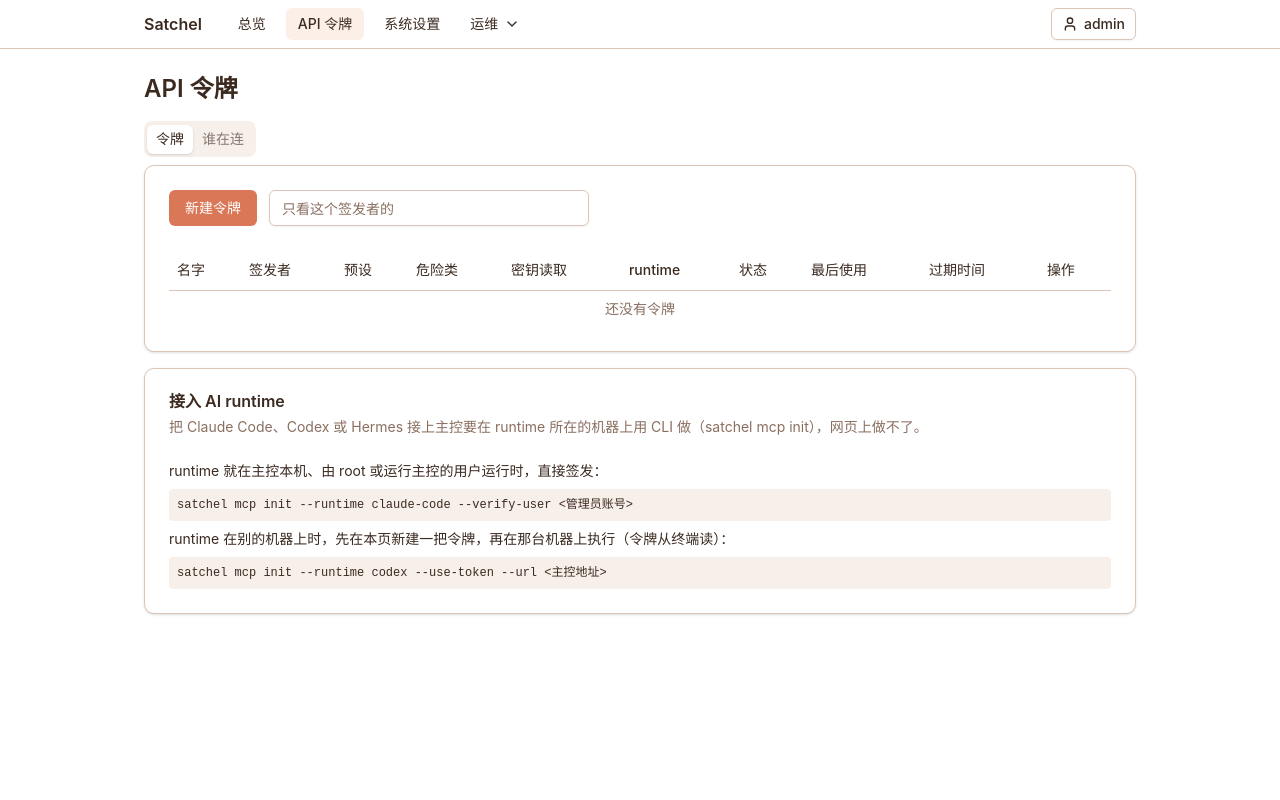
Test case: API 令牌页 › 新建令牌：当场验证后明文只显示这一次
The width and height of the screenshot is (1280, 800).
Click the button "新建令牌" at (213, 208), box x1=169 y1=190 x2=257 y2=226
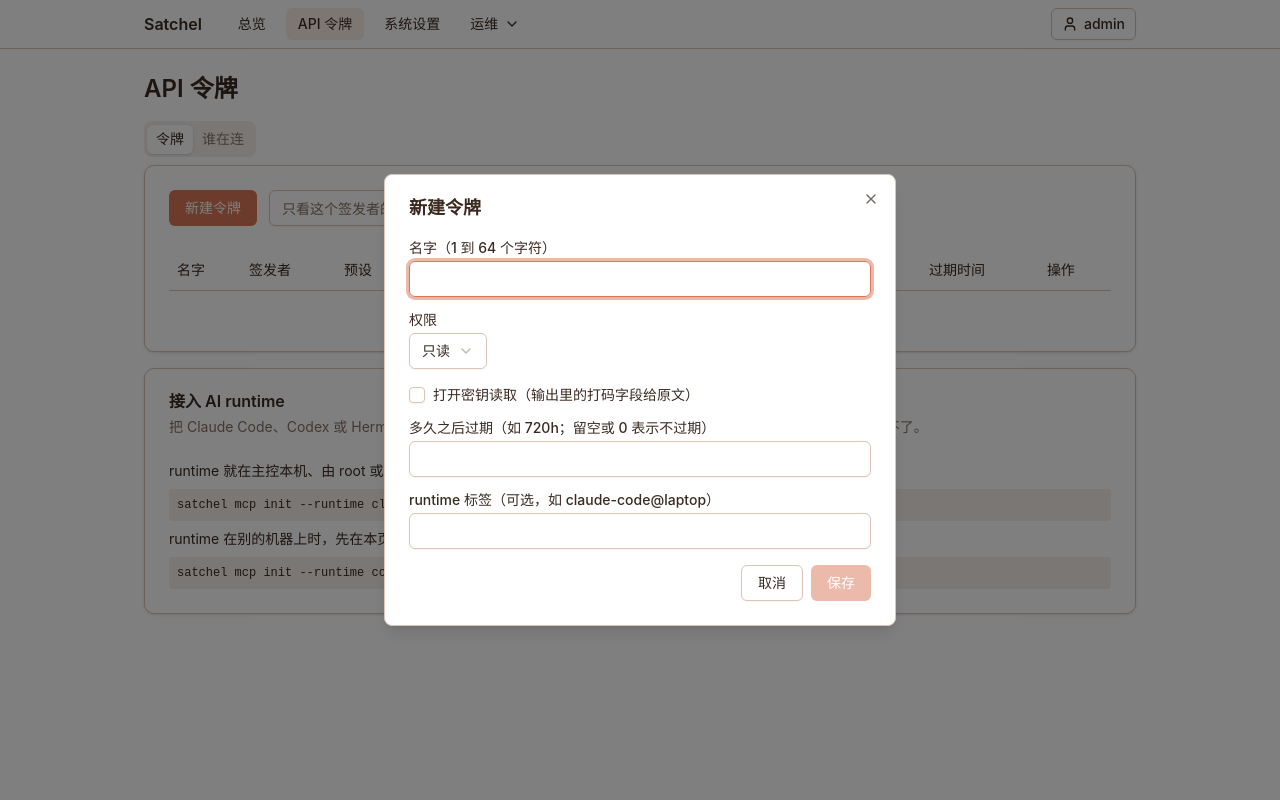
Type "ci" into the field labelled "名字（1 到 64 个字符）" at (640, 279), box x1=409 y1=261 x2=871 y2=297
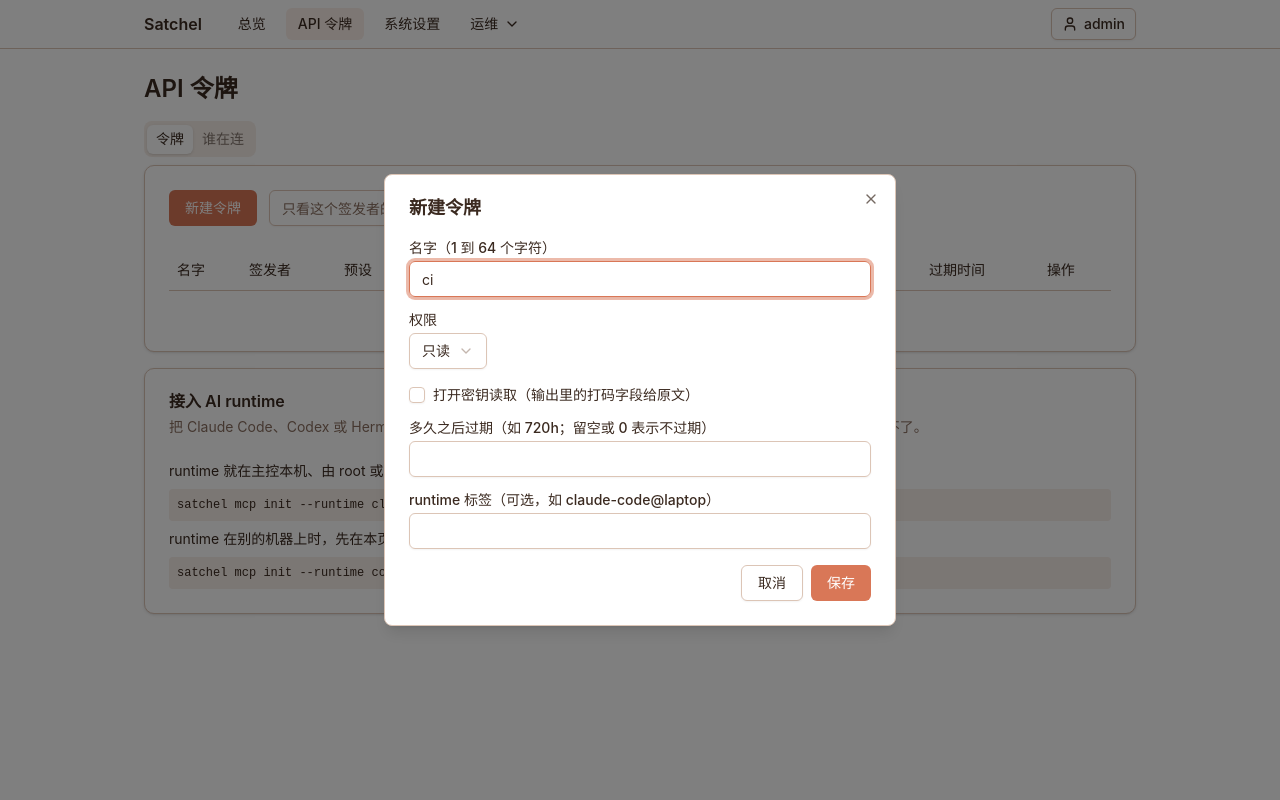
Click the button "保存" at (841, 583), box x1=811 y1=565 x2=871 y2=601
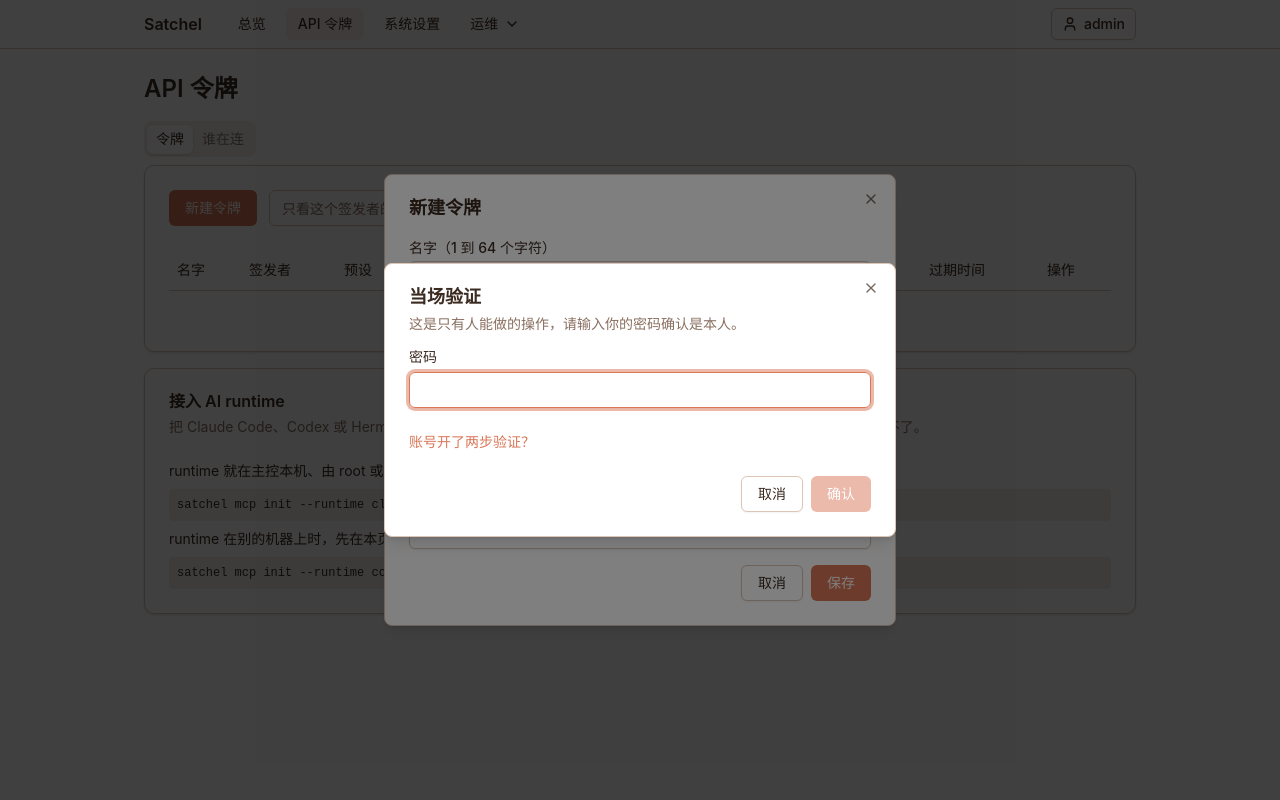
Type "secret12" into the password field labelled "密码" at (640, 390), box x1=409 y1=372 x2=871 y2=408
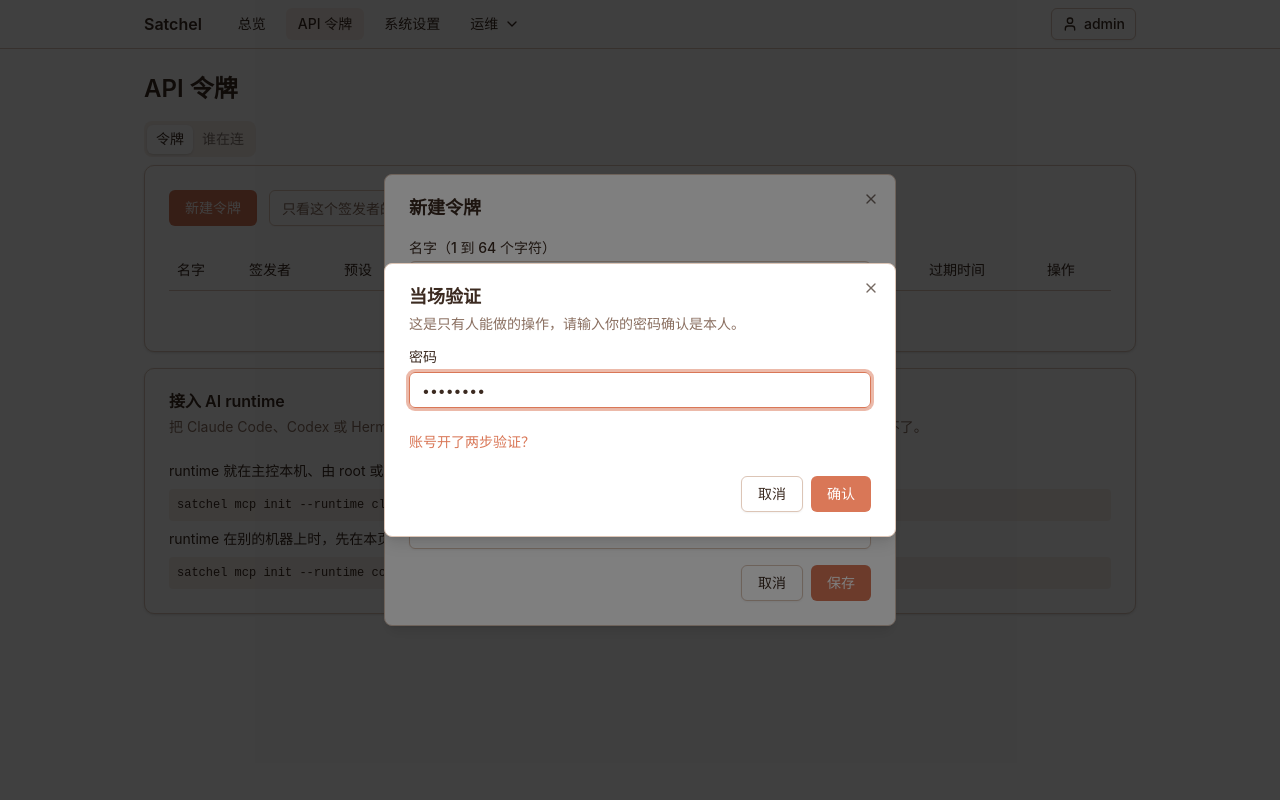
Click the button "确认" at (841, 494), box x1=811 y1=476 x2=871 y2=512
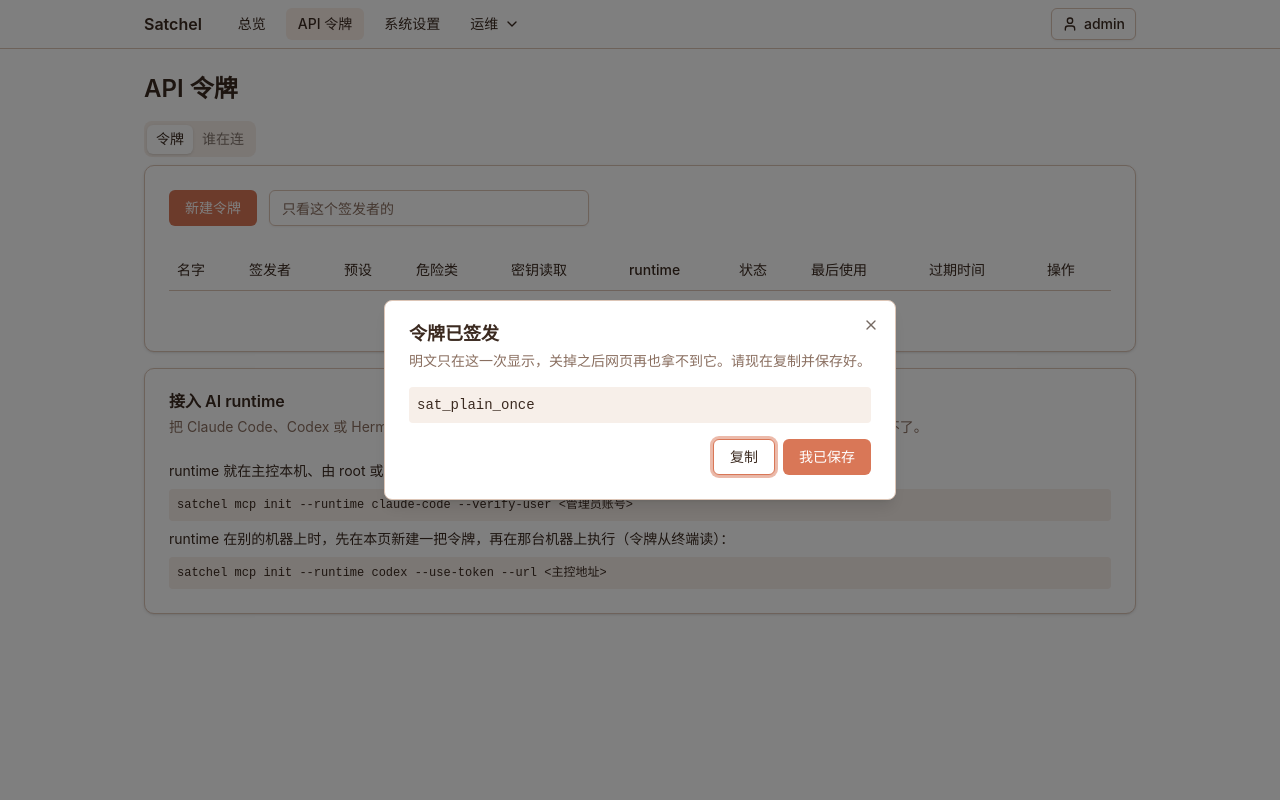
Check: the text with test id "token-plain" reads "sat_plain_once", box x1=417 y1=397 x2=535 y2=413
Click the button "我已保存" at (827, 457), box x1=783 y1=439 x2=871 y2=475
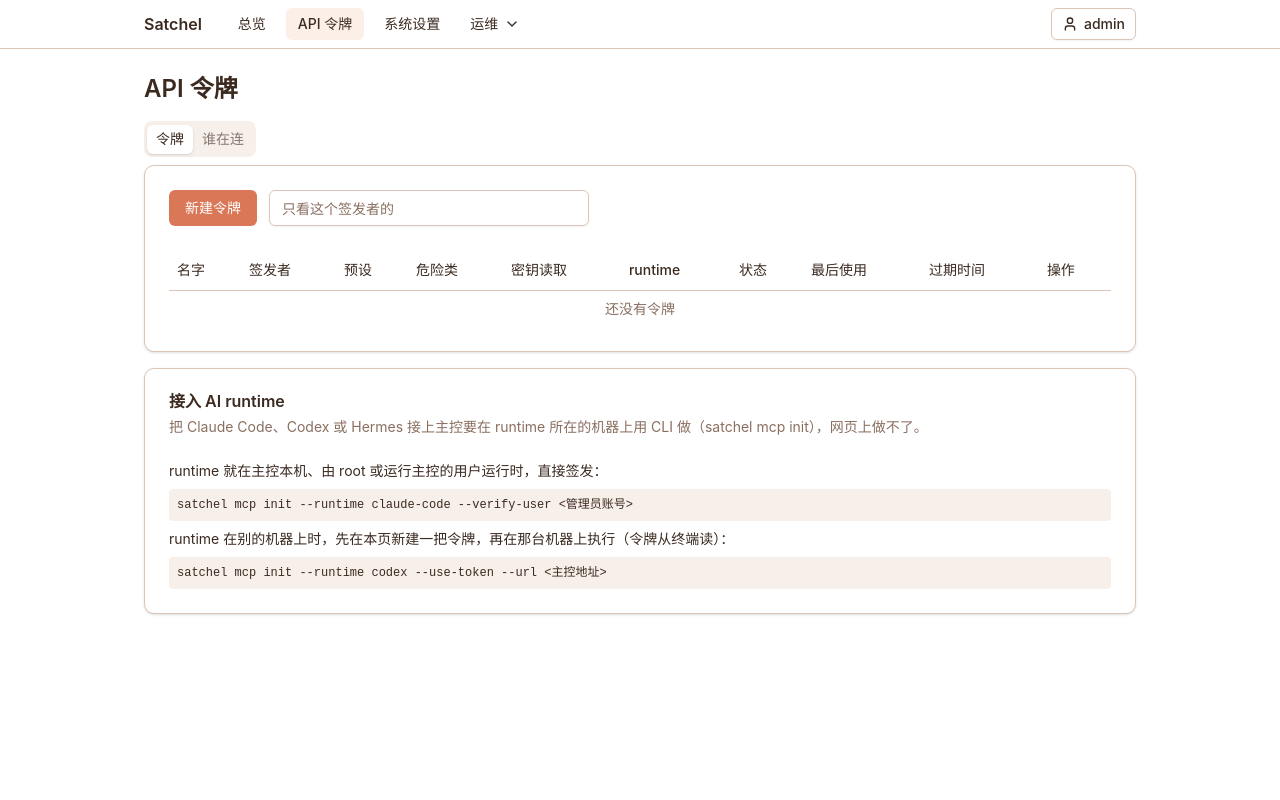
Check: the text with test id "token-plain" is gone
Check: the text "sat_plain_once" is gone
